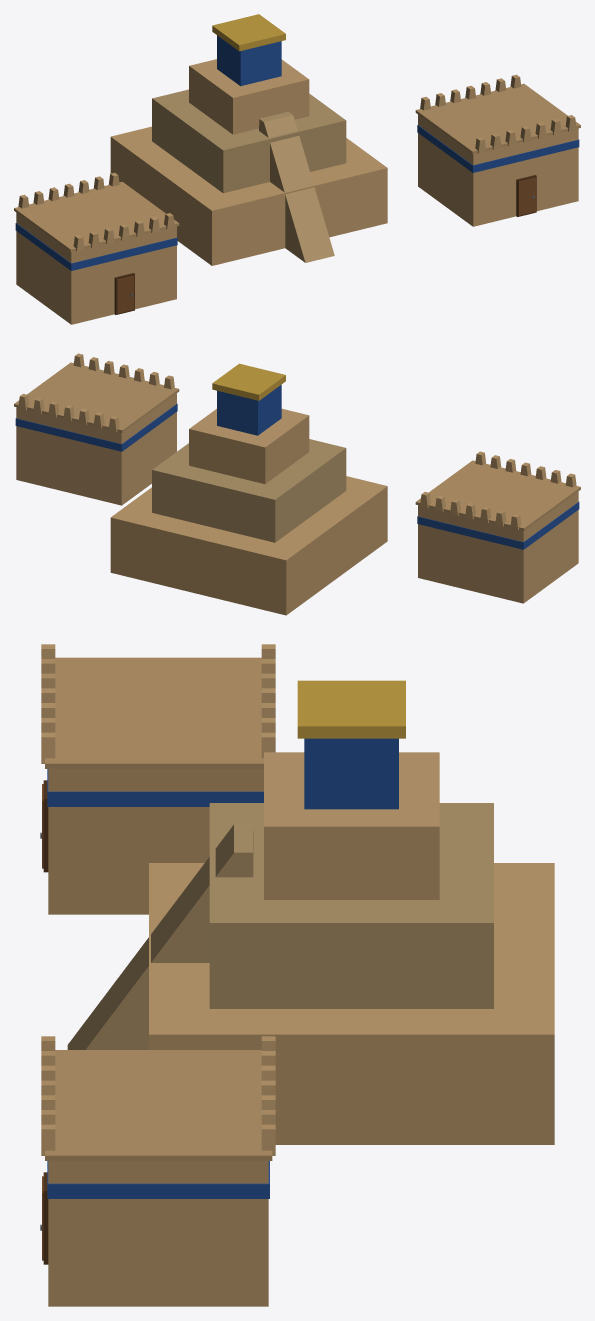
The model's file is minotaur_court_broken.glb.
The picture shows the model from 3 angles, top to bottom: view 1: azimuth 30°, elevation 25°; view 2: azimuth 150°, elevation 25°; view 3: azimuth 270°, elevation 25°; orthographic projection. The views are drawn at different scales.
Parts seen in each view (by area): view 1: minotaur_court_piece1, minotaur_court_piece12, minotaur_court_piece3, minotaur_court_piece6, minotaur_court_piece10, minotaur_court_piece2, minotaur_court_piece13, minotaur_court_piece5, minotaur_court_piece7, minotaur_court_piece9, minotaur_court_piece8, minotaur_court_piece11; view 2: minotaur_court_piece2, minotaur_court_piece1, minotaur_court_piece3, minotaur_court_piece4, minotaur_court_piece7, minotaur_court_piece12, minotaur_court_piece6, minotaur_court_piece8, minotaur_court_piece9, minotaur_court_piece13, minotaur_court_piece5, minotaur_court_piece10; view 3: minotaur_court_piece1, minotaur_court_piece4, minotaur_court_piece6, minotaur_court_piece7, minotaur_court_piece3, minotaur_court_piece9, minotaur_court_piece10, minotaur_court_piece12, minotaur_court_piece2, minotaur_court_piece5, minotaur_court_piece13, minotaur_court_piece0.
Boxes of the visible parts, bbox=[...] form: minotaur_court_piece1: bbox=[415, 74, 580, 219]; minotaur_court_piece12: bbox=[185, 38, 327, 217]; minotaur_court_piece3: bbox=[14, 134, 126, 318]; minotaur_court_piece6: bbox=[63, 184, 261, 324]; minotaur_court_piece10: bbox=[306, 140, 505, 231]; minotaur_court_piece2: bbox=[110, 75, 207, 211]; minotaur_court_piece13: bbox=[177, 190, 352, 265]; minotaur_court_piece5: bbox=[244, 39, 513, 185]; minotaur_court_piece7: bbox=[189, 14, 448, 134]; minotaur_court_piece9: bbox=[164, 93, 333, 202]; minotaur_court_piece8: bbox=[164, 195, 192, 251]; minotaur_court_piece11: bbox=[211, 204, 317, 236]; minotaur_court_piece2: bbox=[190, 425, 470, 615]; minotaur_court_piece1: bbox=[14, 353, 191, 501]; minotaur_court_piece3: bbox=[277, 463, 580, 603]; minotaur_court_piece4: bbox=[108, 443, 218, 598]; minotaur_court_piece7: bbox=[154, 363, 276, 458]; minotaur_court_piece12: bbox=[264, 373, 355, 496]; minotaur_court_piece6: bbox=[346, 451, 578, 569]; minotaur_court_piece8: bbox=[339, 522, 460, 588]; minotaur_court_piece9: bbox=[184, 443, 359, 547]; minotaur_court_piece13: bbox=[351, 495, 387, 554]; minotaur_court_piece5: bbox=[140, 368, 277, 420]; minotaur_court_piece10: bbox=[154, 411, 176, 465]; minotaur_court_piece1: bbox=[40, 825, 439, 1306]; minotaur_court_piece4: bbox=[276, 858, 554, 1144]; minotaur_court_piece6: bbox=[40, 691, 263, 914]; minotaur_court_piece7: bbox=[140, 680, 439, 1050]; minotaur_court_piece3: bbox=[41, 644, 554, 871]; minotaur_court_piece9: bbox=[166, 830, 422, 1024]; minotaur_court_piece10: bbox=[120, 957, 313, 1144]; minotaur_court_piece12: bbox=[121, 680, 403, 981]; minotaur_court_piece2: bbox=[416, 800, 554, 956]; minotaur_court_piece5: bbox=[41, 688, 317, 1082]; minotaur_court_piece13: bbox=[67, 992, 148, 1049]; minotaur_court_piece0: bbox=[97, 841, 209, 914].
Size of the model in its own units: 6.1 by 2.03 by 2.66.
